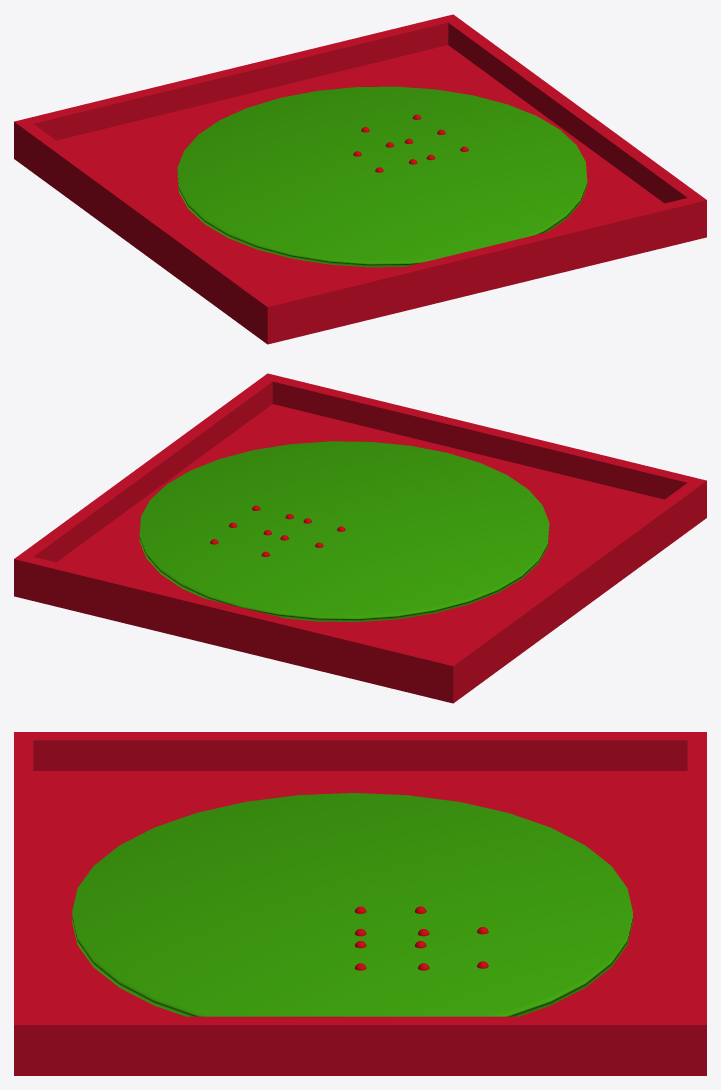
File: Cookie.obj
3 renders of one model, top to bottom at view 1: azimuth 30°, elevation 25°; view 2: azimuth 150°, elevation 25°; view 3: azimuth 270°, elevation 25°, orthographic. The views are drawn at different scales.
Visible parts, largest first — view 1: Cube, Cookie; view 2: Cube, Cookie; view 3: Cube, Cookie.
Boxes of the visible parts, left/top/right/bottom form: Cube: left=14, top=14, right=706, bottom=344; Cookie: left=177, top=86, right=587, bottom=267; Cube: left=14, top=373, right=706, bottom=703; Cookie: left=139, top=441, right=549, bottom=621; Cube: left=14, top=732, right=706, bottom=1075; Cookie: left=72, top=793, right=632, bottom=1016.
Bounding box in the file's own units: 11.57 × 0.9395 × 11.57.
